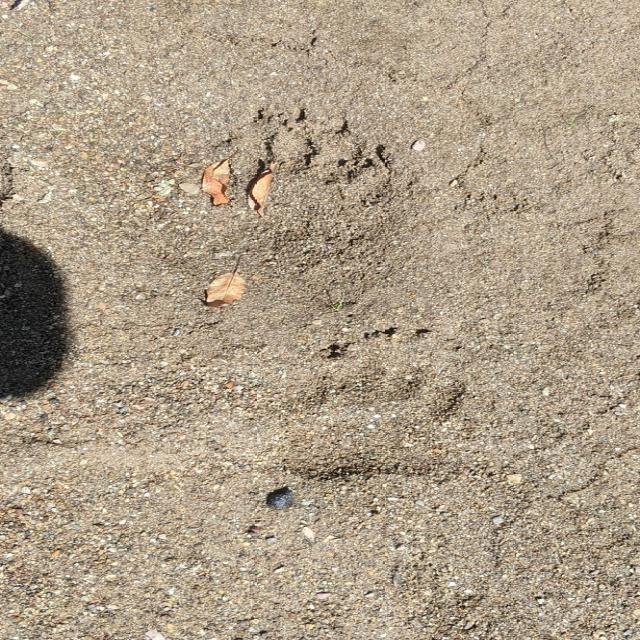bear: (214, 126, 390, 272), (290, 367, 474, 488)
